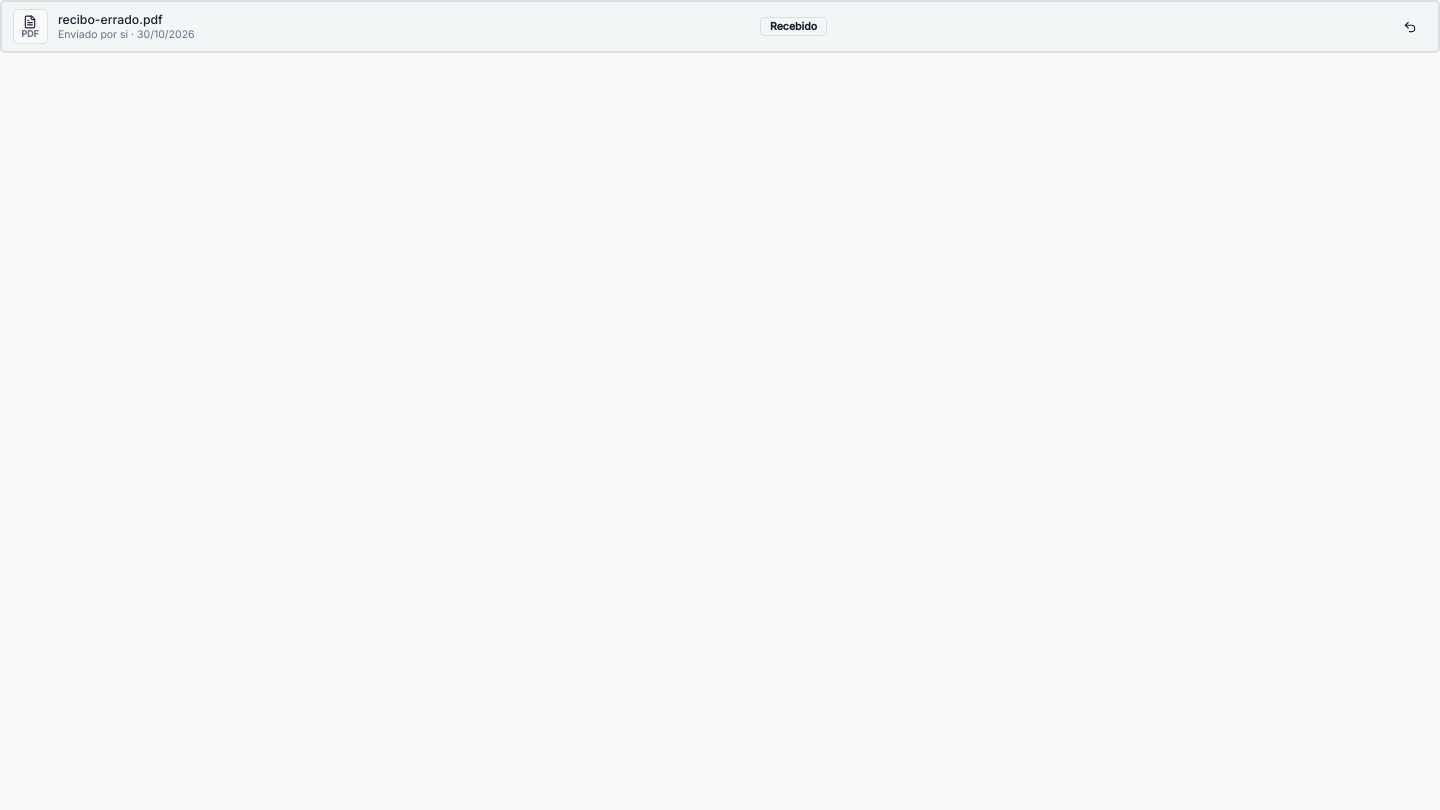
Test: Anular envio › pede confirmação e anula pelo id do ficheiro, actualizando o caso
Later steps or results of the test are not shown.
Click the button named "anular envio de recibo-errado.pdf". click: (1410, 26)
box: x1=1392 y1=12 x2=1428 y2=40
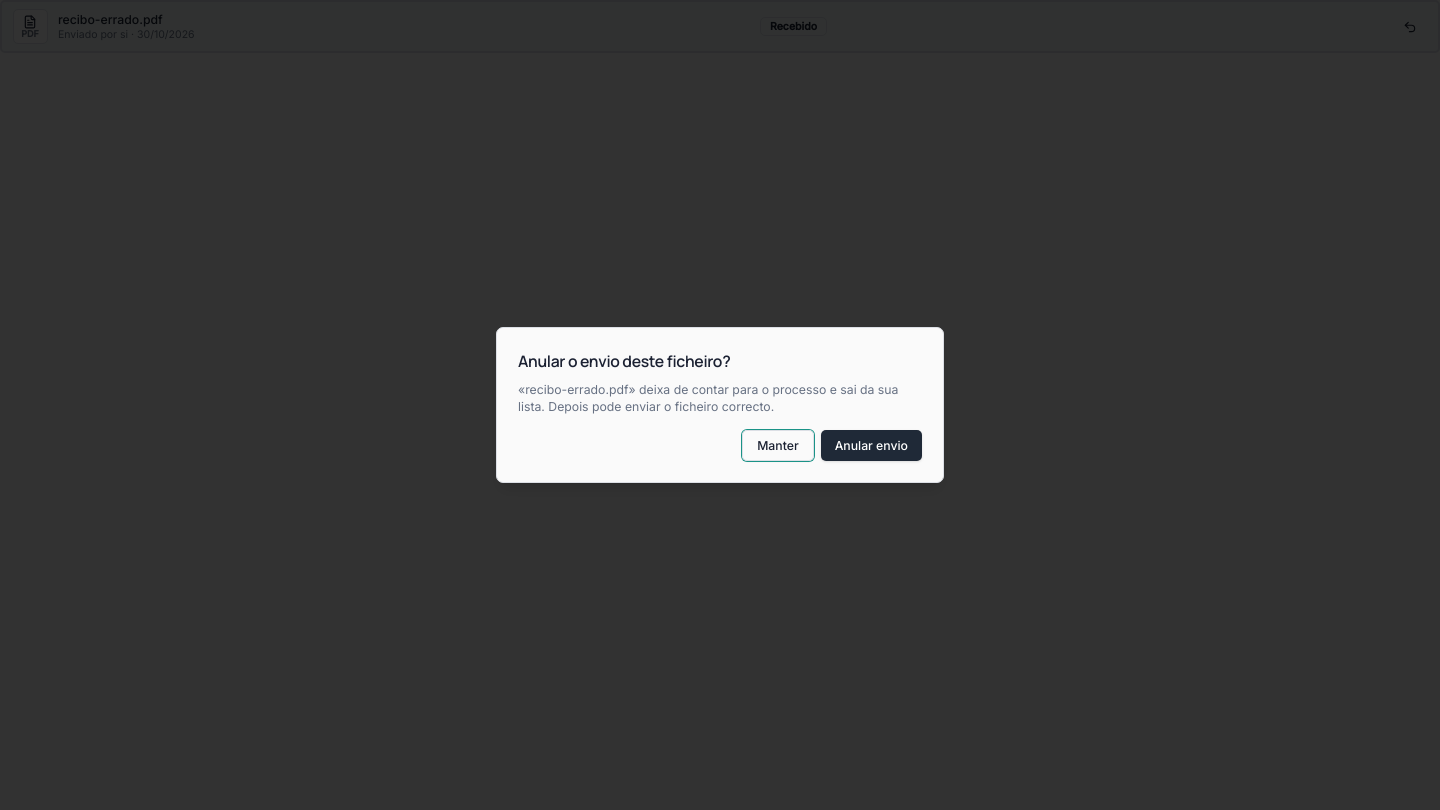
Now the heading "Anular o envio deste ficheiro?" is shown, box x1=518 y1=350 x2=730 y2=372
